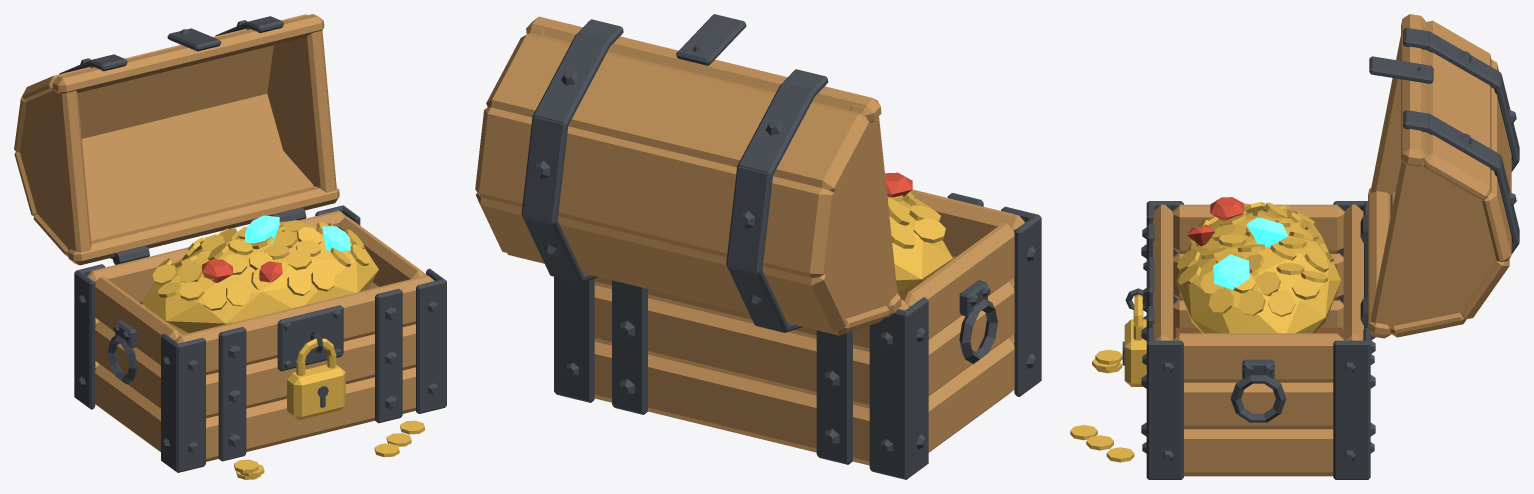
The model's file is treasure-chest-original.glb.
The picture shows the model from 3 angles, left to right: view 1: azimuth 30°, elevation 25°; view 2: azimuth 150°, elevation 25°; view 3: azimuth 270°, elevation 25°; orthographic projection. The views are drawn at different scales.
Parts seen in each view (by area): view 1: Lid, Chest_Body, Treasure, Lock; view 2: Lid, Chest_Body, Treasure; view 3: Chest_Body, Lid, Treasure, Lock.
Boxes of the visible parts, left/top/right/bottom form: Lid: left=14, top=14, right=339, bottom=265; Chest_Body: left=74, top=205, right=446, bottom=472; Treasure: left=142, top=215, right=424, bottom=479; Lock: left=287, top=338, right=345, bottom=419; Lid: left=475, top=14, right=901, bottom=335; Chest_Body: left=554, top=189, right=1041, bottom=479; Treasure: left=885, top=172, right=952, bottom=297; Chest_Body: left=1125, top=201, right=1375, bottom=479; Lid: left=1368, top=14, right=1519, bottom=338; Treasure: left=1070, top=197, right=1341, bottom=462; Lock: left=1122, top=294, right=1146, bottom=386.
Size of the model in its own units: 4.37 by 4.75 by 5.54.
